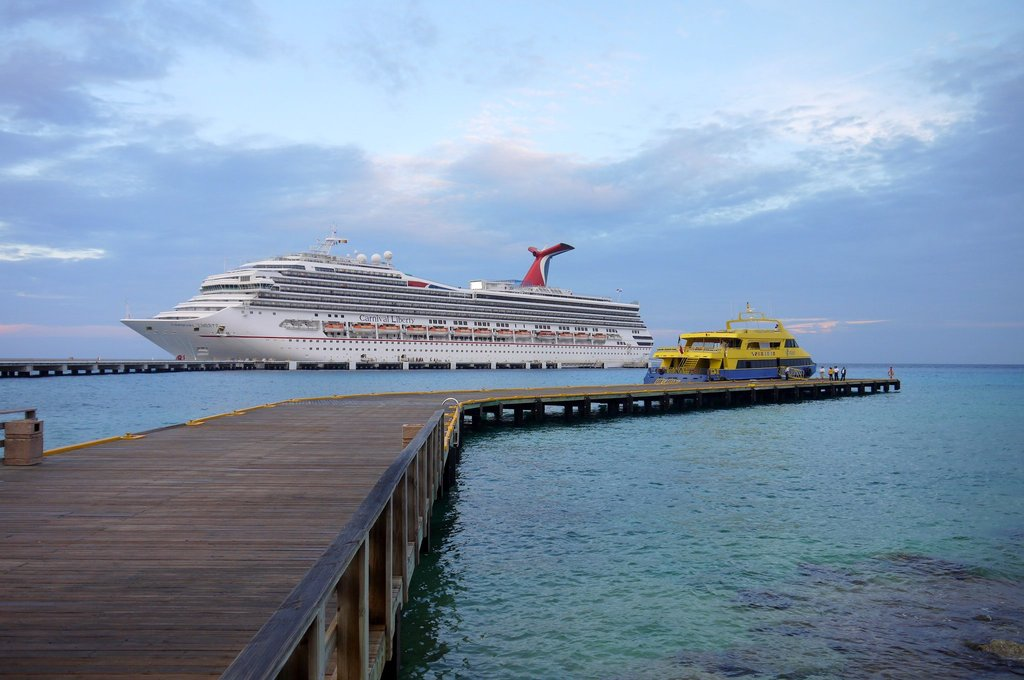boat: (106, 216, 660, 375), (644, 291, 821, 397)
